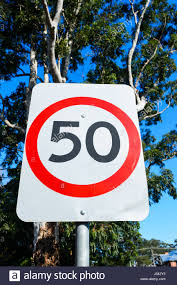Speed_limit_50km: (24, 96, 142, 198)
